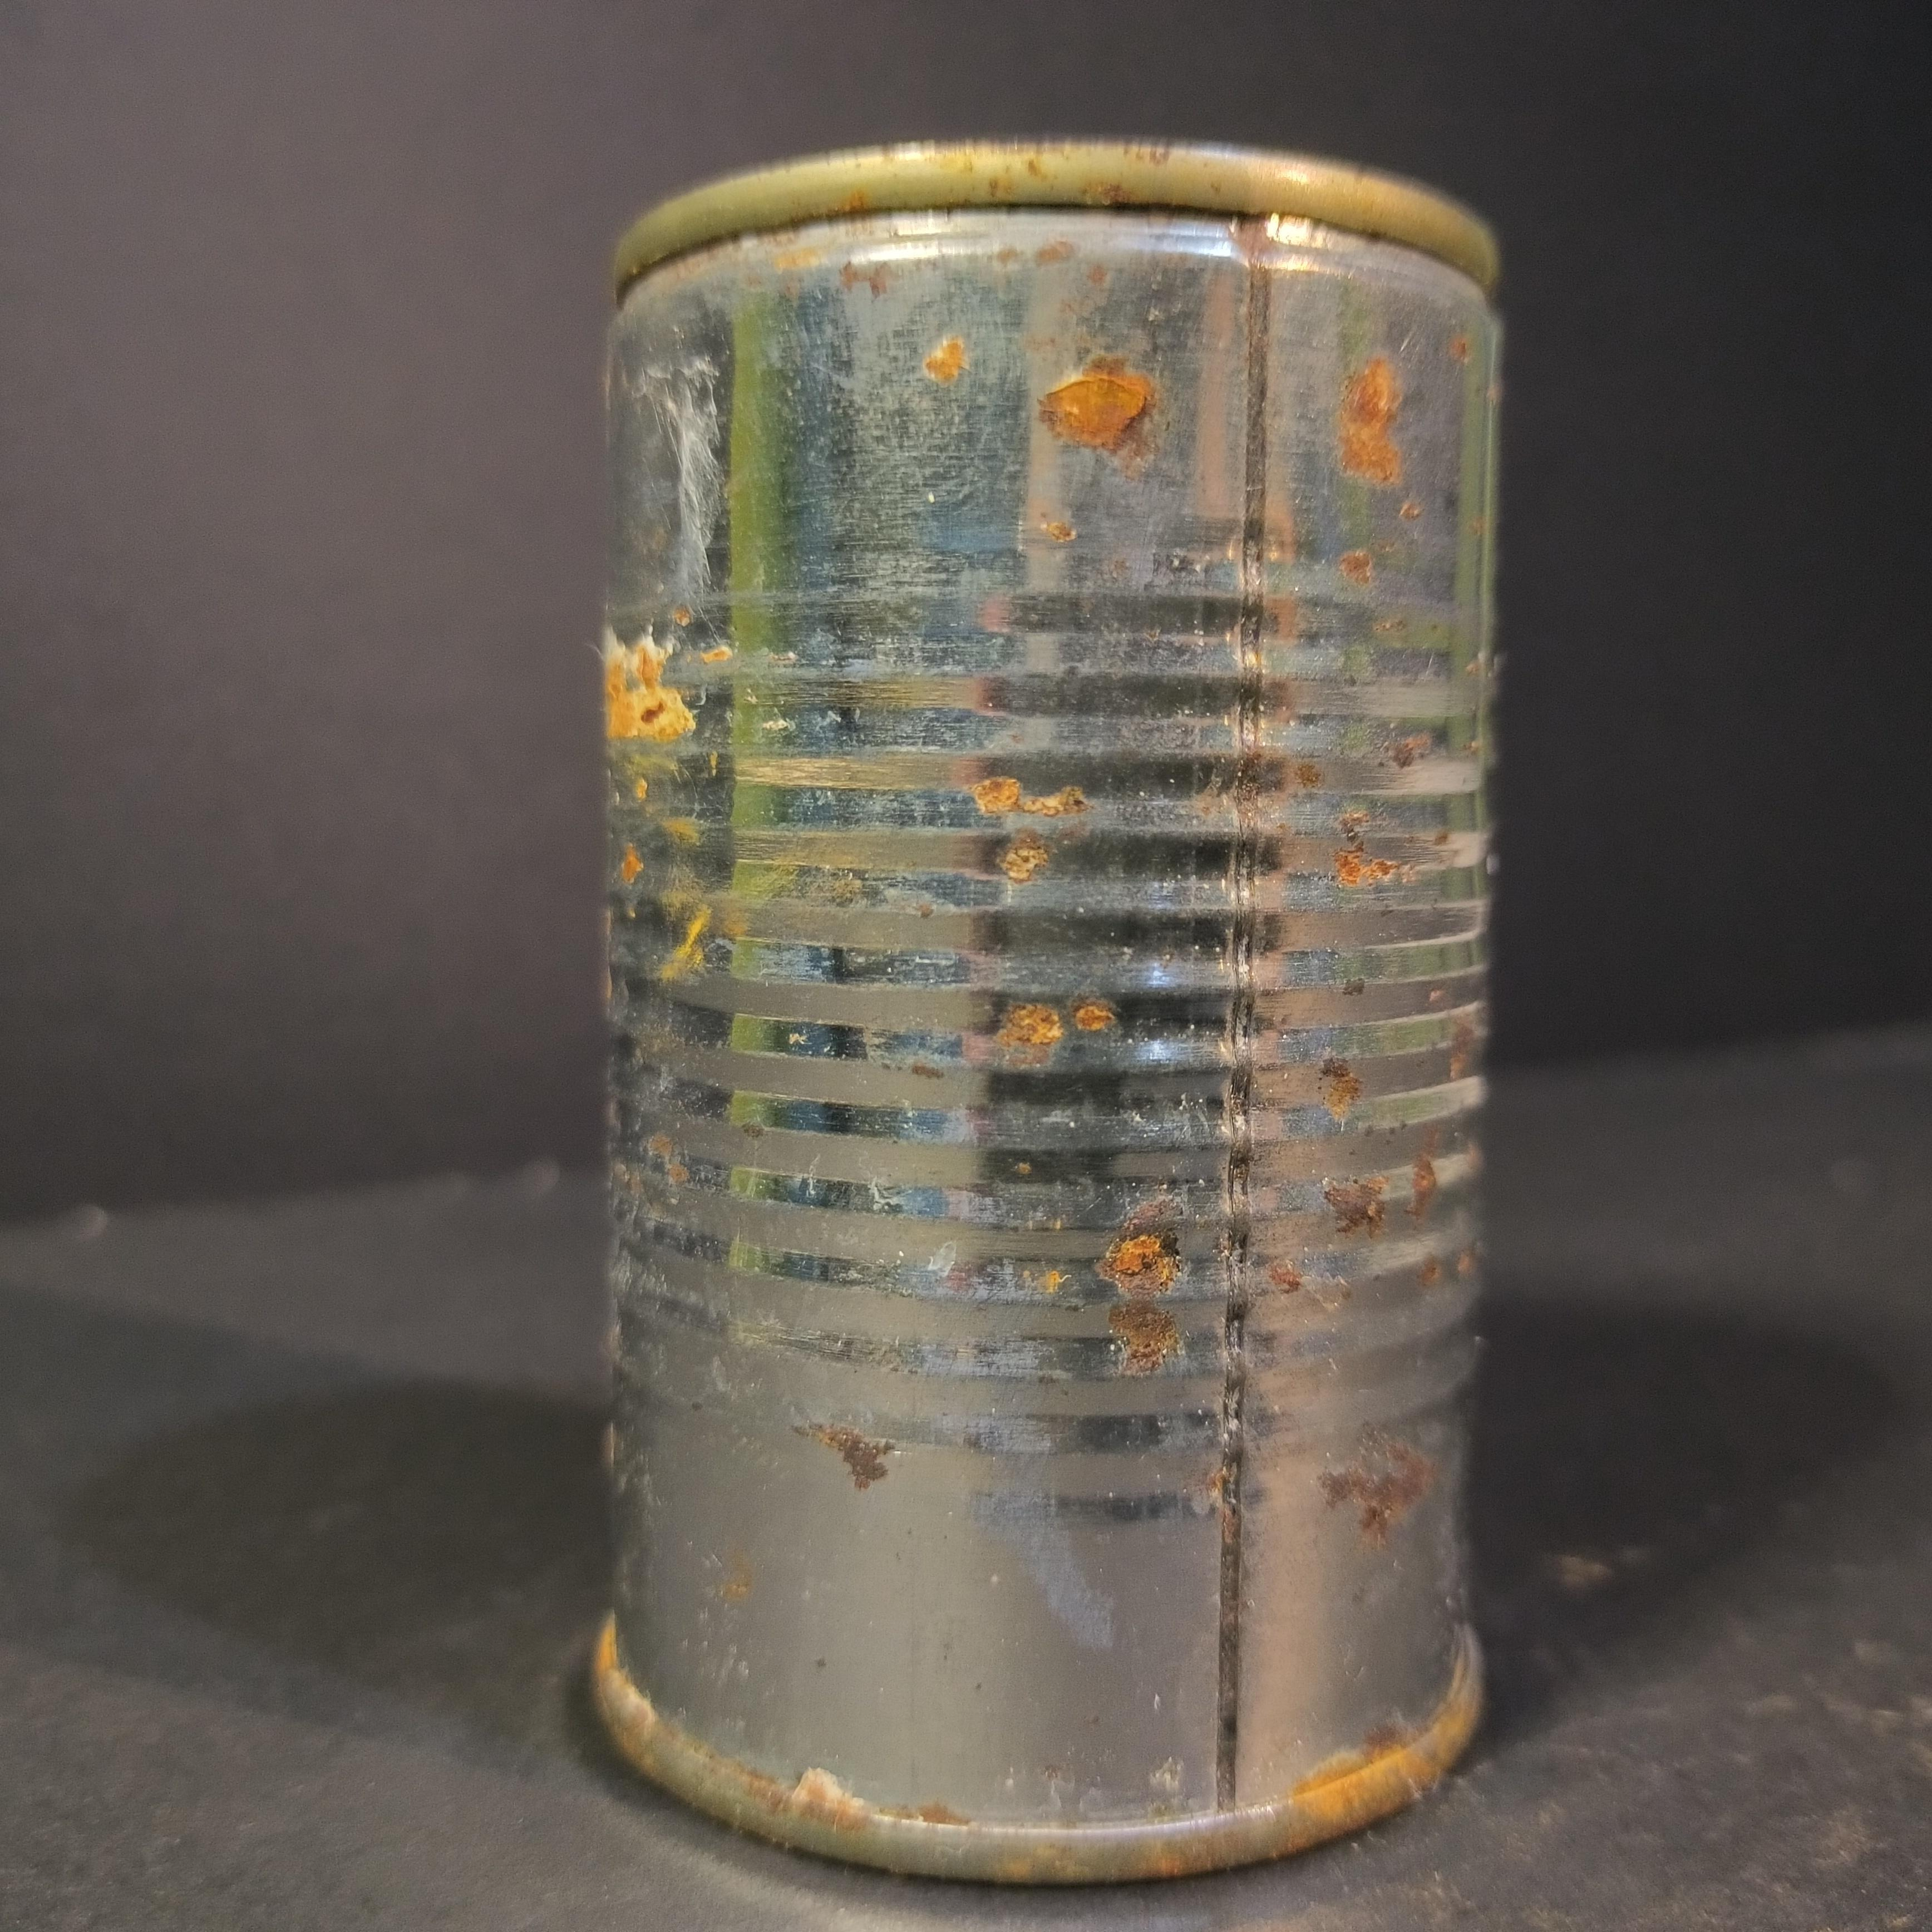Rusted: (570, 122, 1539, 1914)
